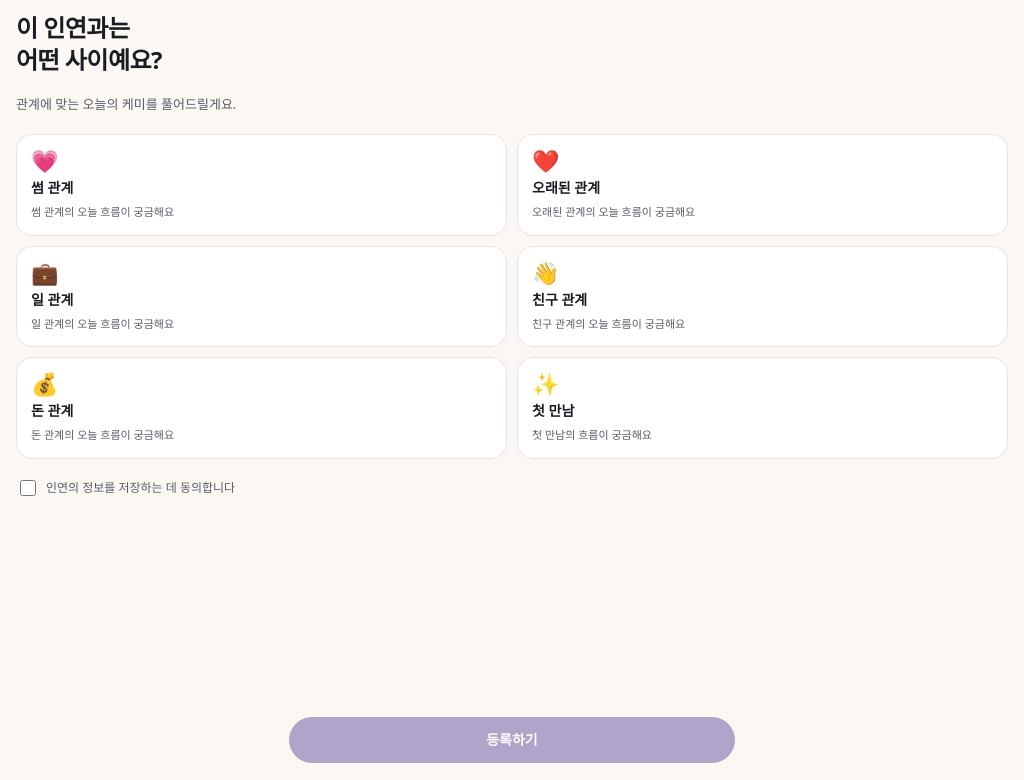
Test: RelationsModePage (Step 3) › 등록하기 is disabled until mode and consent are set
Check: the button "등록하기" is disabled, box top-left (288, 716), bottom-right (736, 764)
Click the text "썸 관계" at (52,188), box top-left (31, 177), bottom-right (73, 198)
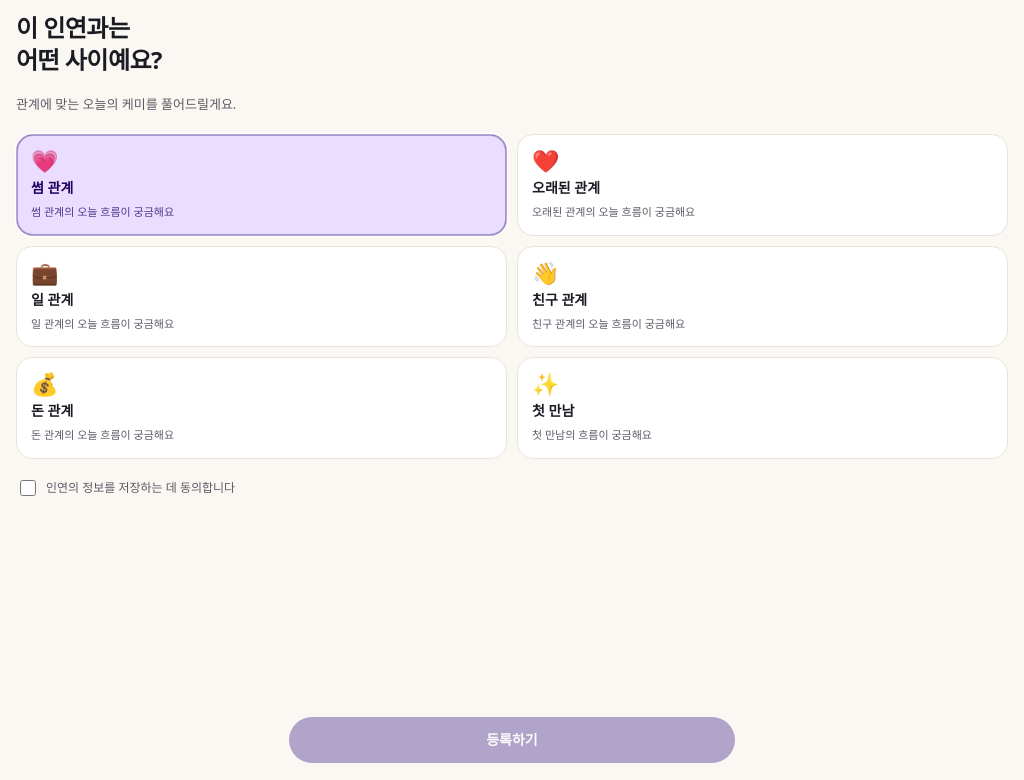
Check: the button "등록하기" is disabled, box top-left (288, 716), bottom-right (736, 764)
Click the checkbox at (28,488), box top-left (20, 480), bottom-right (36, 496)
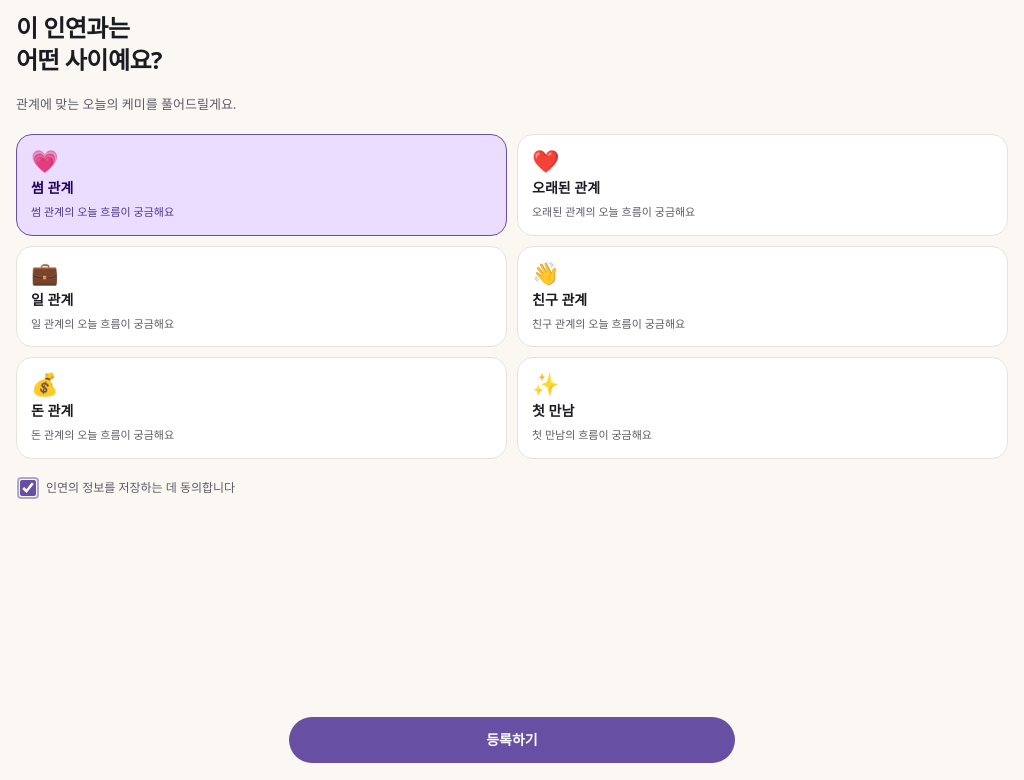
Check: the button "등록하기" is enabled, box top-left (288, 716), bottom-right (736, 764)
